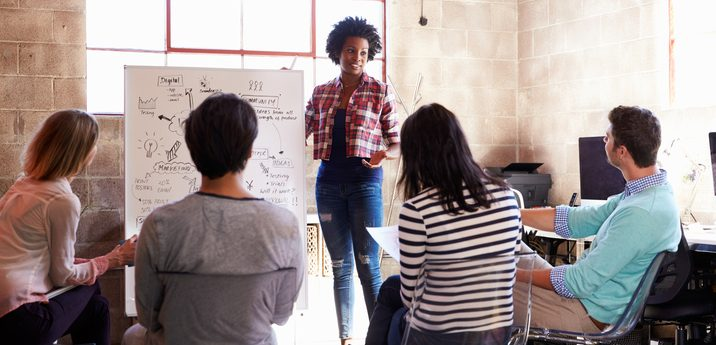Person: (117, 90, 308, 345), (513, 104, 683, 345), (363, 102, 525, 345), (304, 14, 403, 345), (1, 107, 137, 345)
